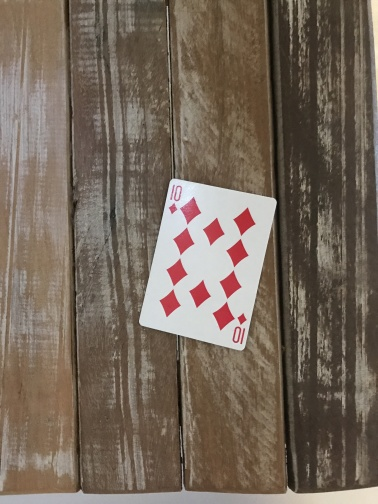ten: (138, 177, 278, 353)
